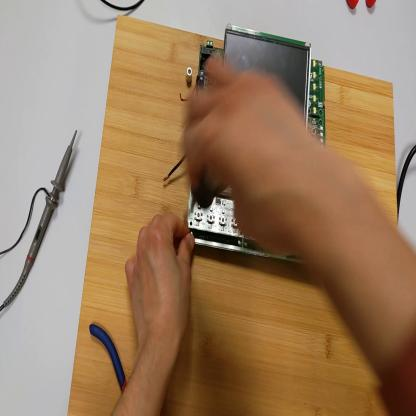hand: (180, 47, 323, 269), (126, 213, 194, 348)
low voltage board: (164, 25, 328, 257)
oscilloscope probe tip: (5, 127, 79, 308)
pliers: (90, 323, 128, 394), (346, 2, 377, 13)
screwdriver-: (187, 164, 225, 233)
working area: (69, 16, 400, 416)
